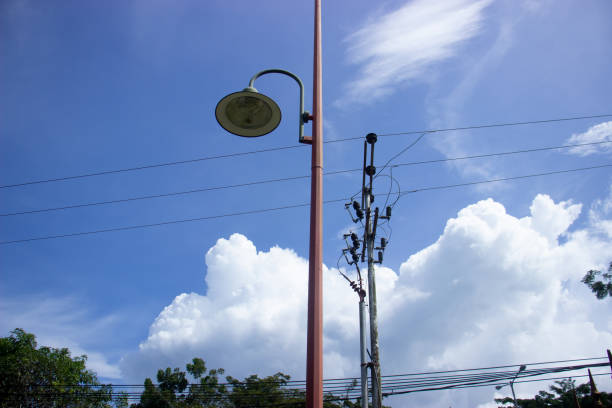light_pole: (305, 3, 325, 408), (368, 267, 382, 408)
